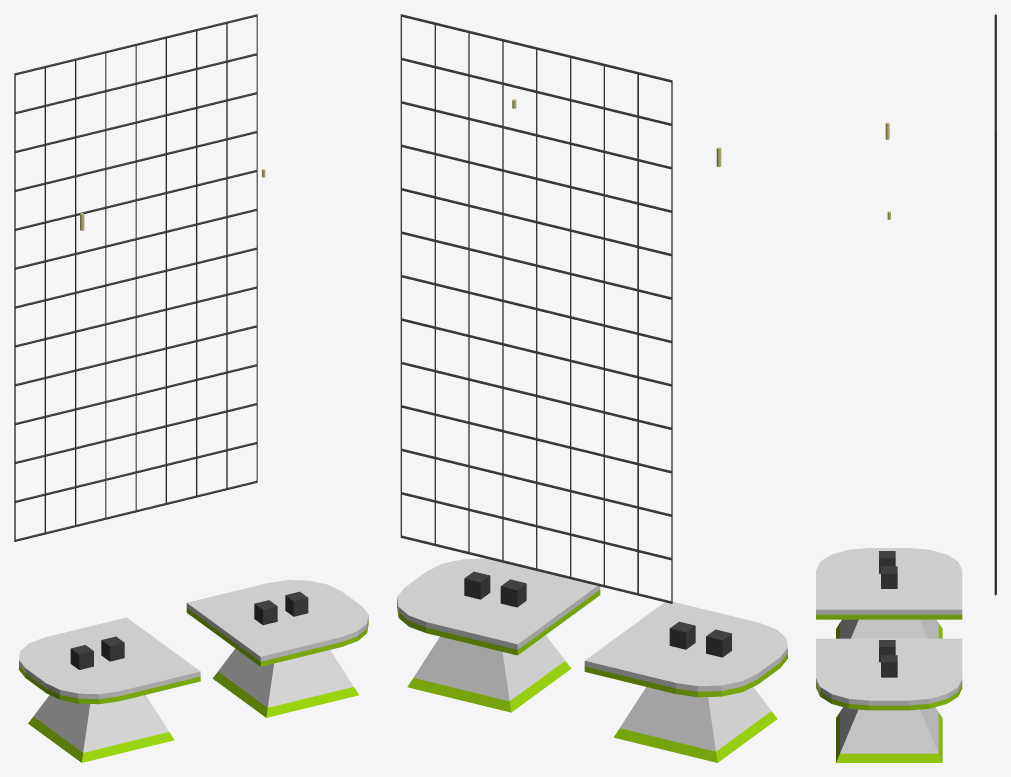
The model's file is Viento.dae.
3 views of the same model, side by side, from view 1: azimuth 30°, elevation 25°; view 2: azimuth 150°, elevation 25°; view 3: azimuth 270°, elevation 25° (orthographic). The views are drawn at different scales.
Visible parts, largest first — view 1: Plane, Cube.002, Cube.001, Cube, Cube.003; view 2: Plane, Cube.001, Cube.002, Cube, Cube.003; view 3: Cube.002, Cube.001, Cube.003, Cube, Plane, Cube.007, Cube.004.
Part boxes in pixels (<box>): Plane: <box>14,14,257,541</box>; Cube.002: <box>186,580,368,666</box>; Cube.001: <box>19,617,200,704</box>; Cube: <box>28,695,174,762</box>; Cube.003: <box>213,648,358,717</box>; Plane: <box>400,14,672,603</box>; Cube.001: <box>584,602,787,697</box>; Cube.002: <box>397,558,600,655</box>; Cube: <box>614,687,777,762</box>; Cube.003: <box>407,635,571,712</box>; Cube.002: <box>816,638,962,710</box>; Cube.001: <box>816,548,962,619</box>; Cube.003: <box>836,707,942,762</box>; Cube: <box>836,619,942,638</box>; Plane: <box>994,14,996,595</box>; Cube.007: <box>881,655,897,677</box>; Cube.004: <box>881,566,897,588</box>.
Bounding box in the file's own units: 6.78 × 3.39 × 12.87.
